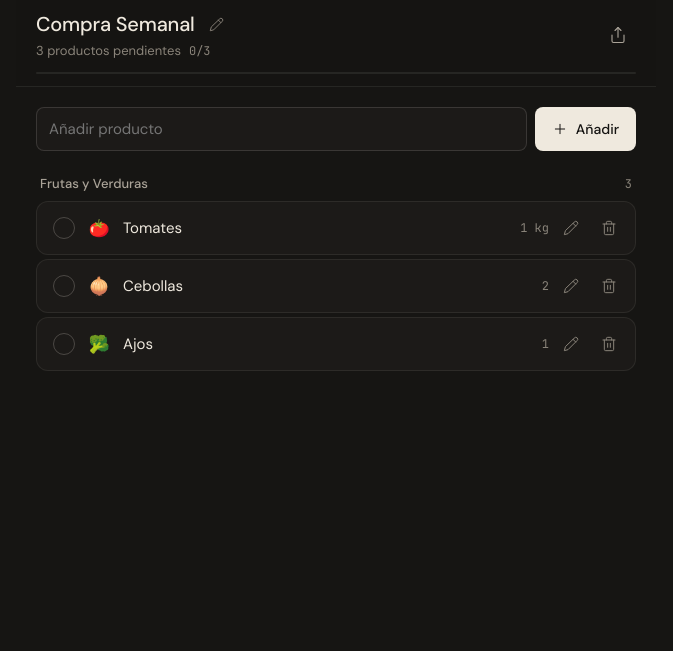
Test case: MarketActiveList Component › deletes multiple items rapidly without regenerating any of them
This screenshot has width=673, height=651.
expect the text "Tomates" is shown: met, box top-left (123, 218), bottom-right (182, 238)
expect the text "Cebollas" is shown: met, box top-left (123, 276), bottom-right (183, 296)
Rapidly delete all 3 items back-to-back
Click the button named "Eliminar Tomates".
click(609, 228)  # box top-left (591, 210), bottom-right (627, 246)
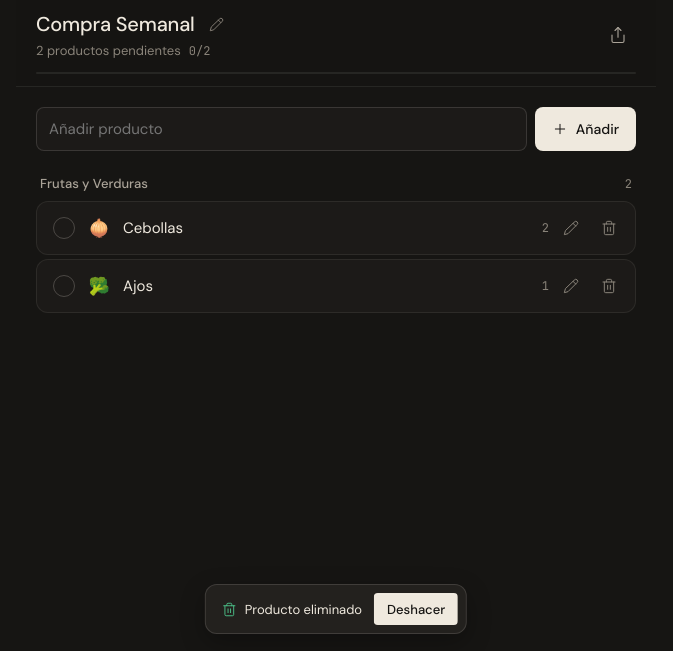
Click the button named "Eliminar Cebollas".
click(609, 228)  # box top-left (591, 210), bottom-right (627, 246)
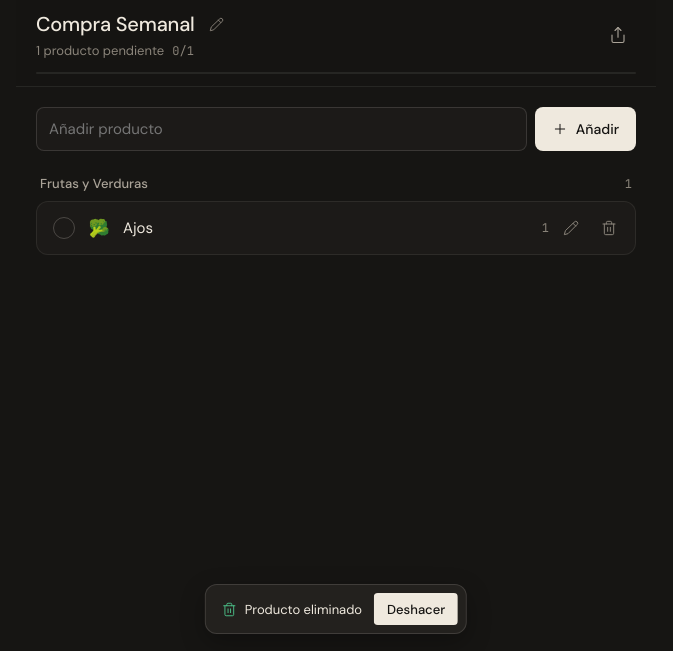
Click the button named "Eliminar Ajos".
click(609, 228)  # box top-left (591, 210), bottom-right (627, 246)
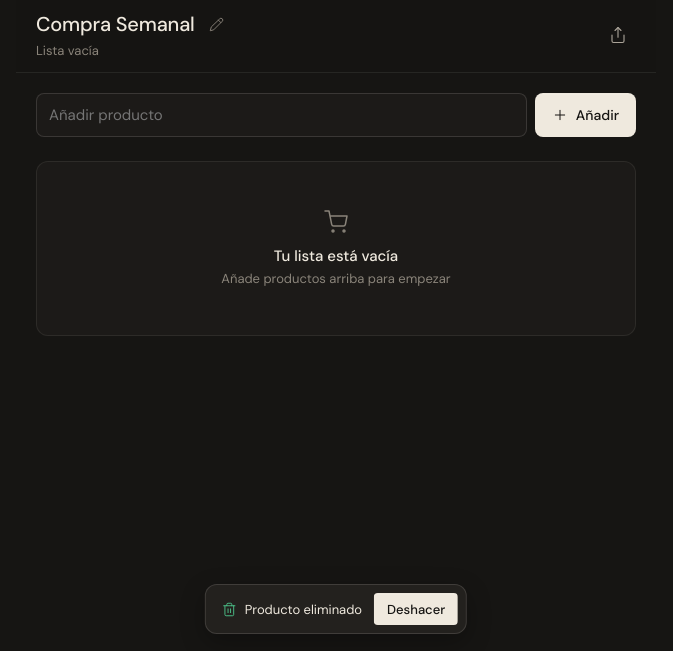
expect the text "Tomates" is not shown: met
expect the text "Ajos" is gone: met
